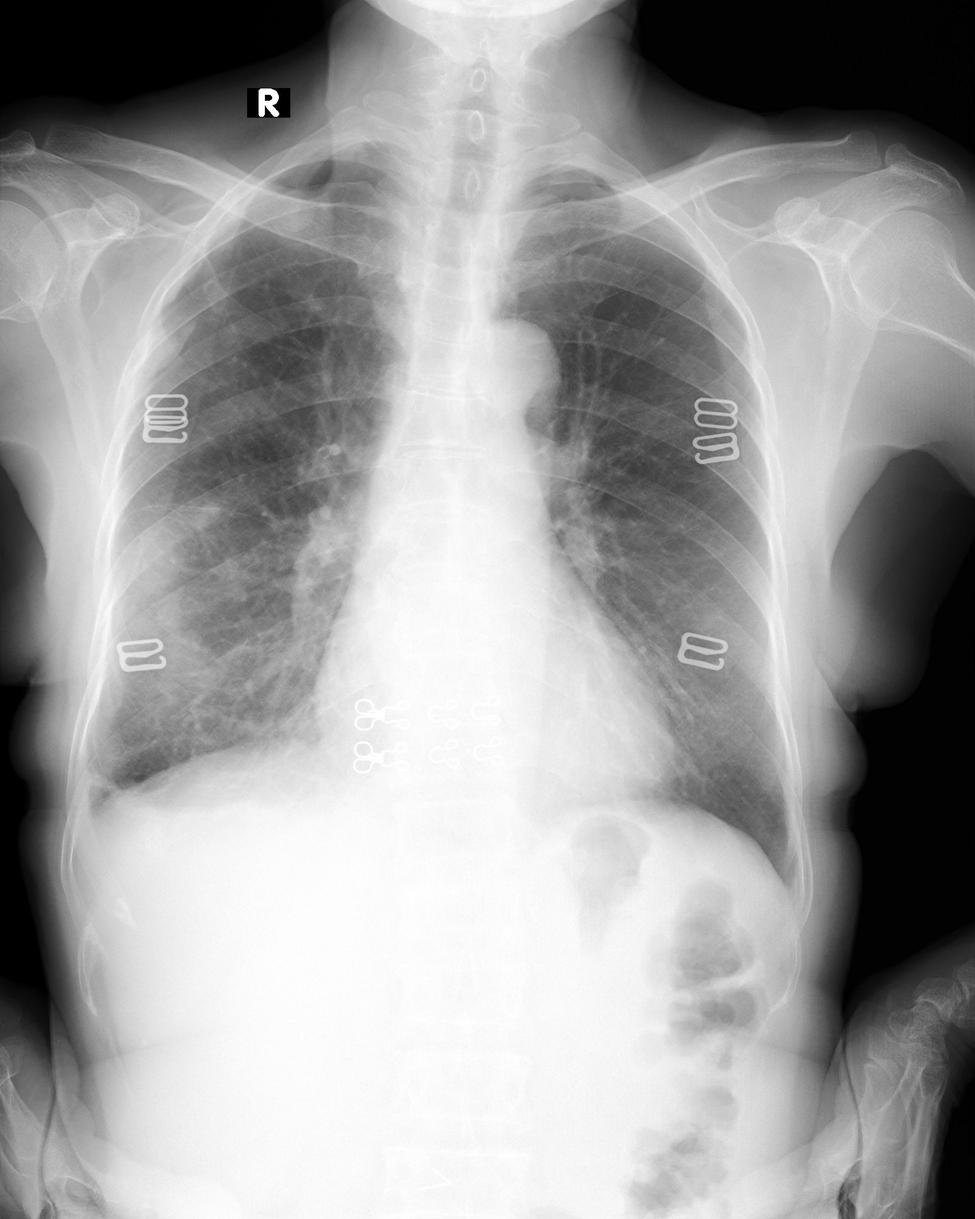Pleural thickening: (66, 758, 122, 840)
